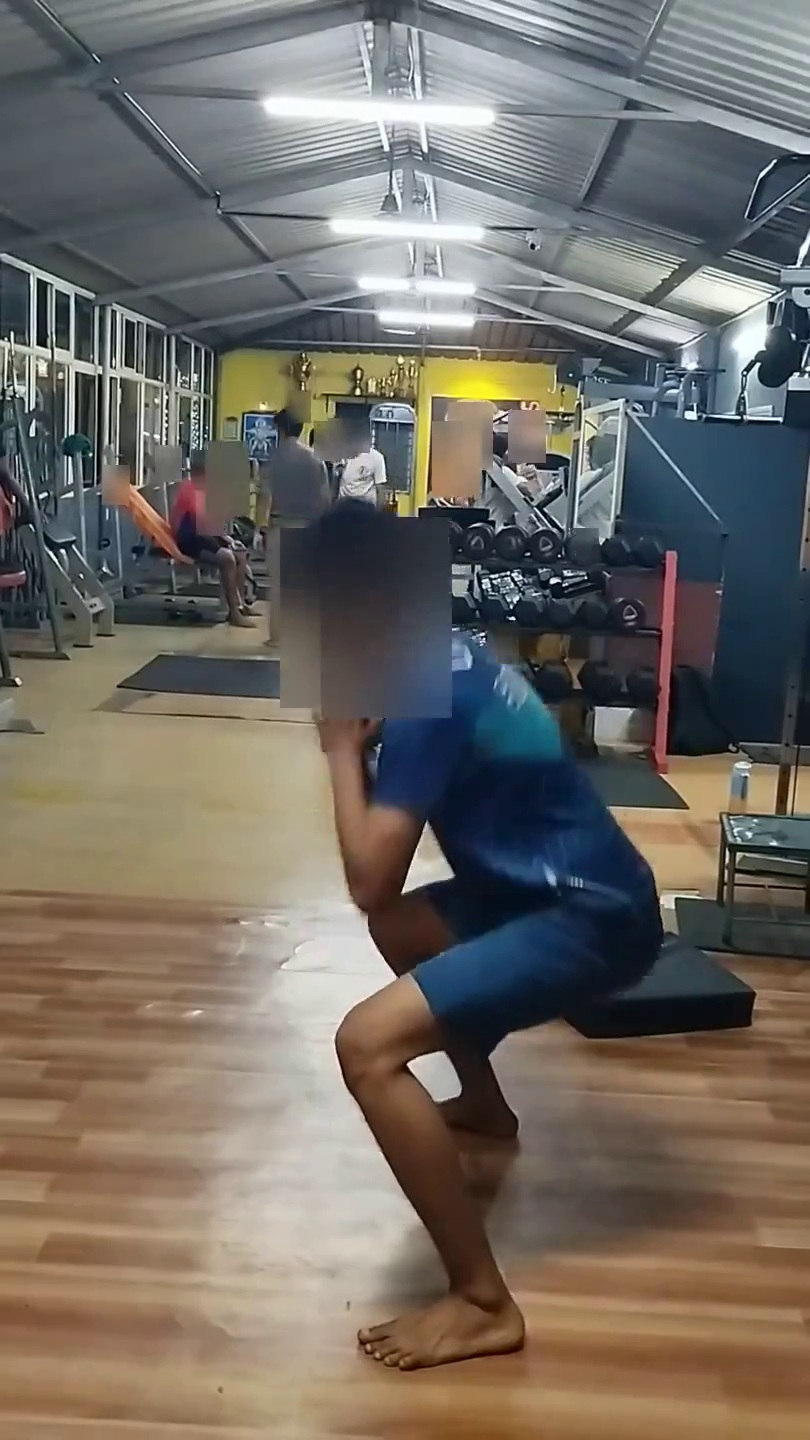squat_correct: (247, 524, 651, 1416)
